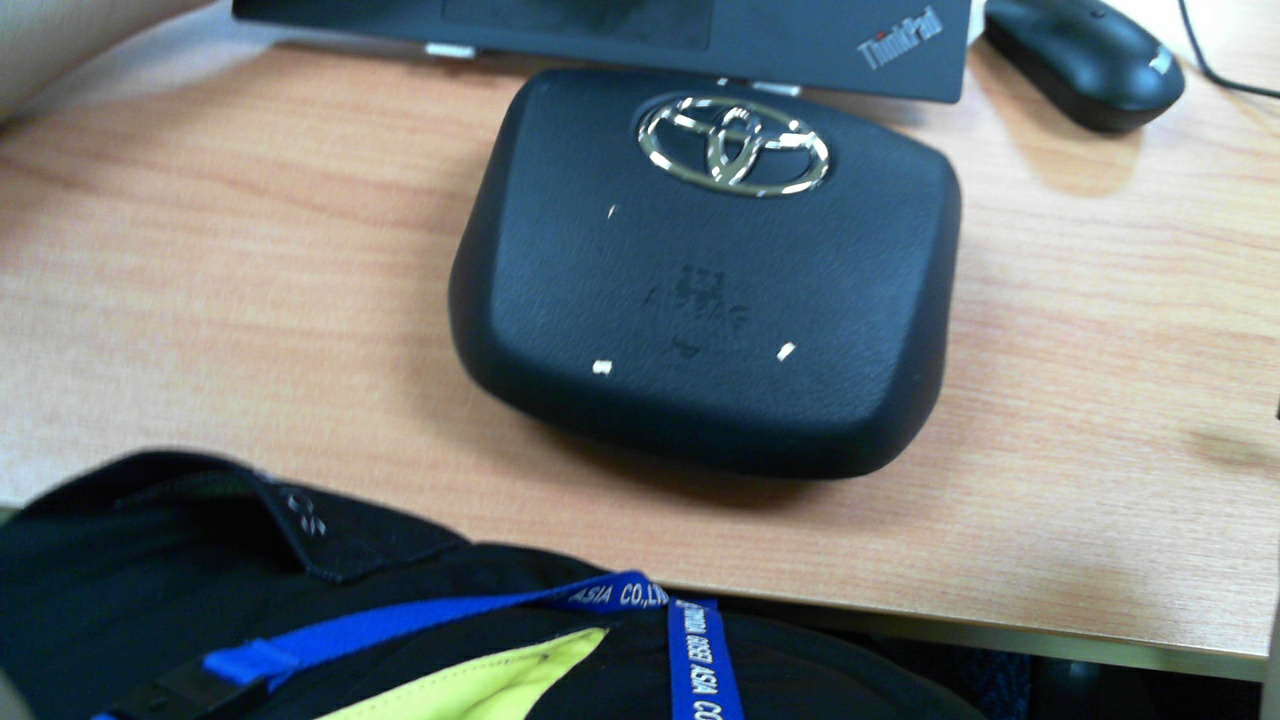Airbag: (449, 70, 962, 481)
Mark: (776, 342, 796, 362), (592, 360, 613, 375), (607, 205, 615, 220), (716, 78, 727, 86)
